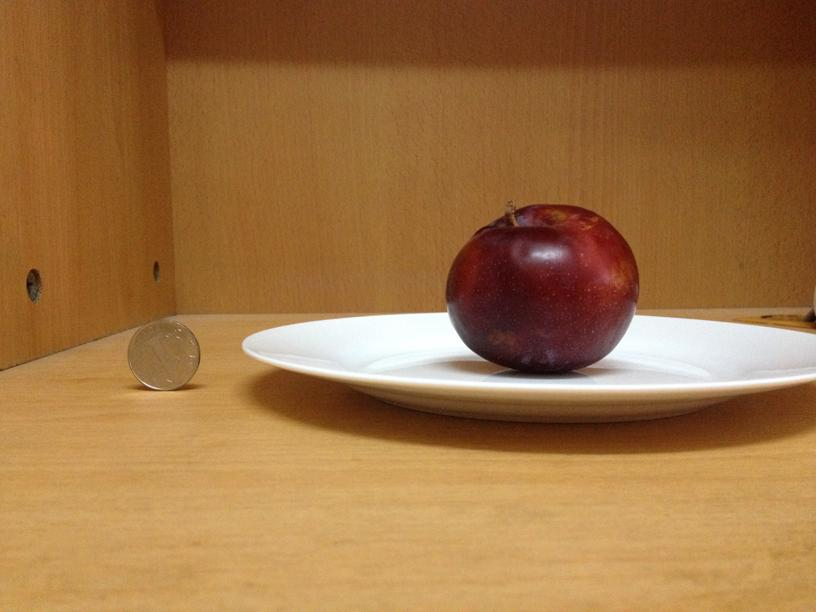coin: (123, 322, 200, 392)
plum: (442, 199, 638, 375)
